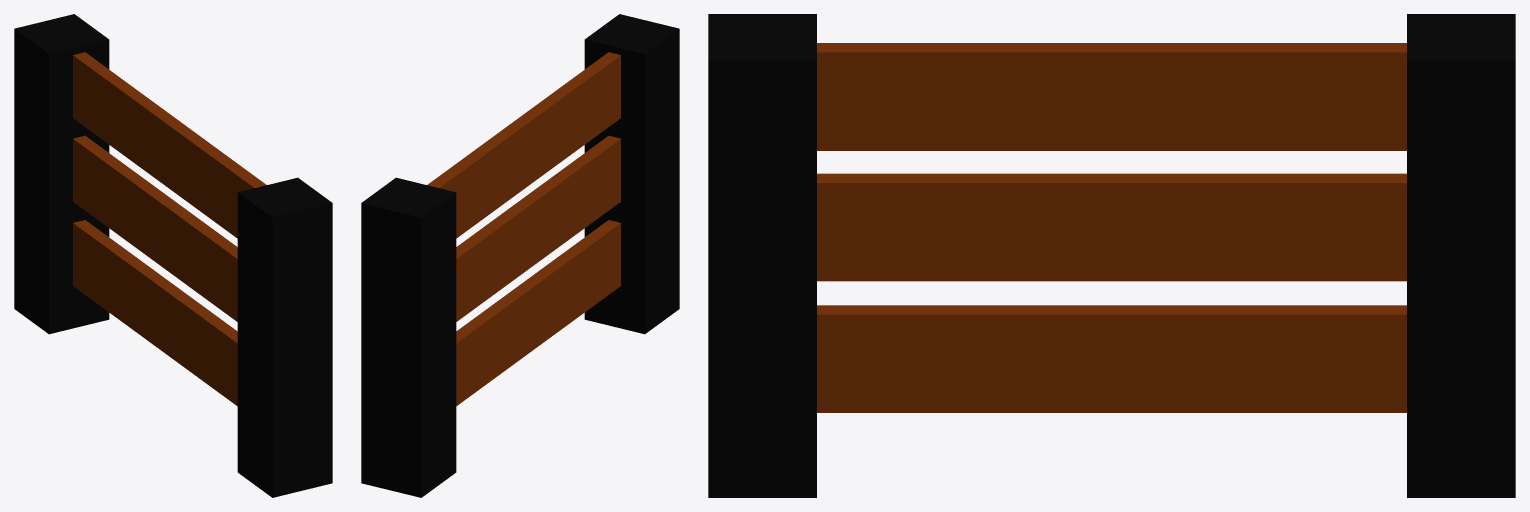
File: Fence.Modern.fbx
3 views of the same model, side by side, from view 1: azimuth 30°, elevation 25°; view 2: azimuth 150°, elevation 25°; view 3: azimuth 270°, elevation 25° (orthographic). The views are drawn at different scales.
Parts seen in each view (by area): view 1: Cube.003, Cube; view 2: Cube.003, Cube; view 3: Cube, Cube.003.
Boxes of the visible parts, bbox=[...] form: Cube.003: bbox=[14, 14, 332, 497]; Cube: bbox=[73, 52, 266, 406]; Cube.003: bbox=[361, 14, 679, 497]; Cube: bbox=[427, 52, 620, 406]; Cube: bbox=[817, 43, 1406, 412]; Cube.003: bbox=[708, 14, 1515, 497].
Bounding box in the file's own units: 200 × 890 × 1487.
